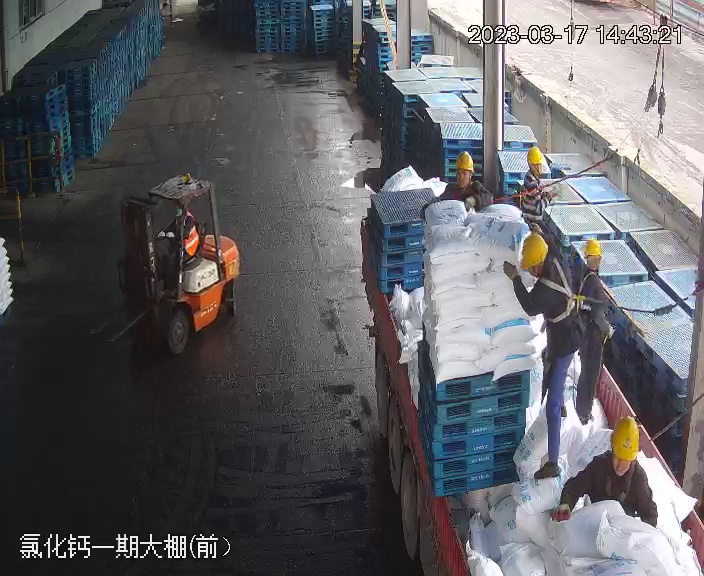belt: (541, 269, 595, 324), (602, 450, 653, 491), (579, 270, 602, 314), (523, 166, 550, 196), (454, 179, 478, 197)
head: (577, 416, 655, 485), (508, 232, 575, 310), (443, 150, 488, 199), (572, 238, 607, 291), (520, 146, 553, 192)
helmet: (609, 416, 641, 462), (518, 232, 548, 269), (454, 151, 476, 171), (581, 238, 603, 258), (525, 145, 545, 164)
people: (505, 231, 587, 480), (548, 414, 667, 526), (558, 235, 613, 439)
truck: (340, 161, 704, 574)
